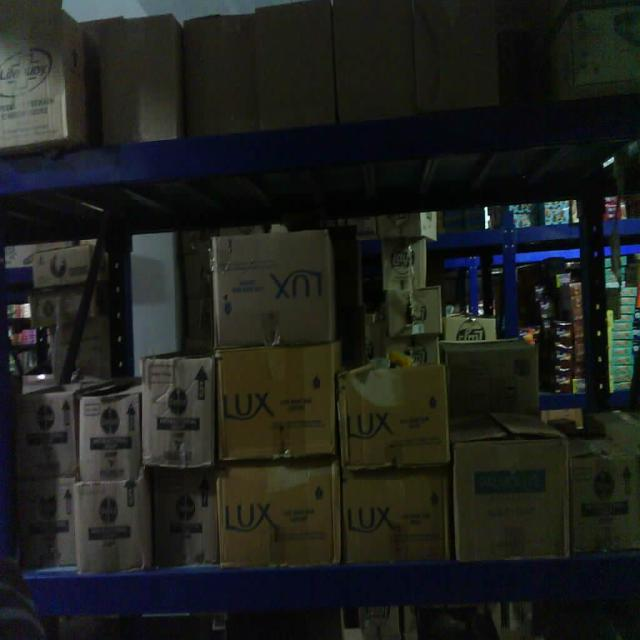box: (453, 435, 573, 562), (215, 345, 338, 462), (211, 230, 337, 344), (219, 462, 344, 564), (342, 360, 452, 467), (94, 13, 183, 142), (256, 3, 342, 130), (339, 469, 455, 563), (0, 0, 70, 146), (143, 350, 216, 471), (76, 481, 151, 573), (148, 472, 219, 566), (76, 393, 142, 480), (16, 478, 79, 568), (14, 392, 79, 478)
